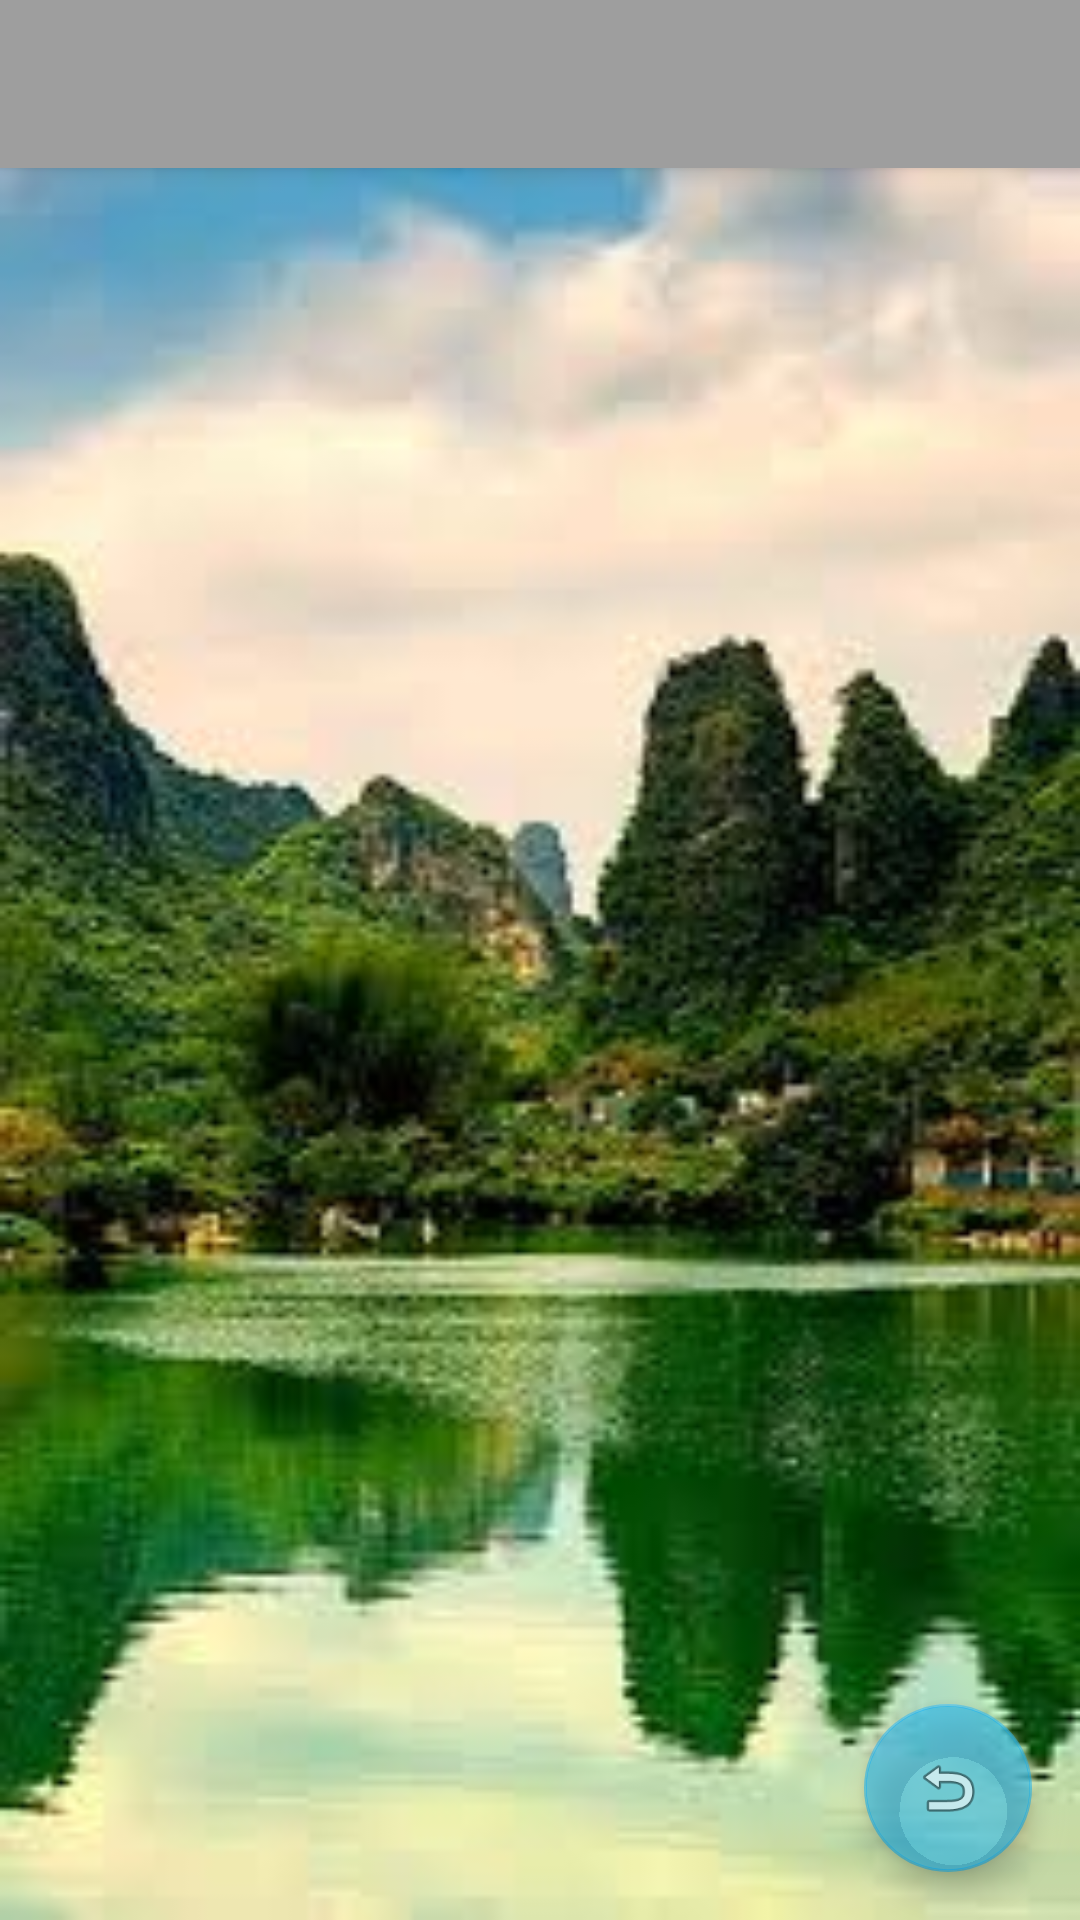

Screen size 1080px×1920px. Icon name, then its center in pixels as (x=x, y=y):
revert: (x=948, y=1788)
